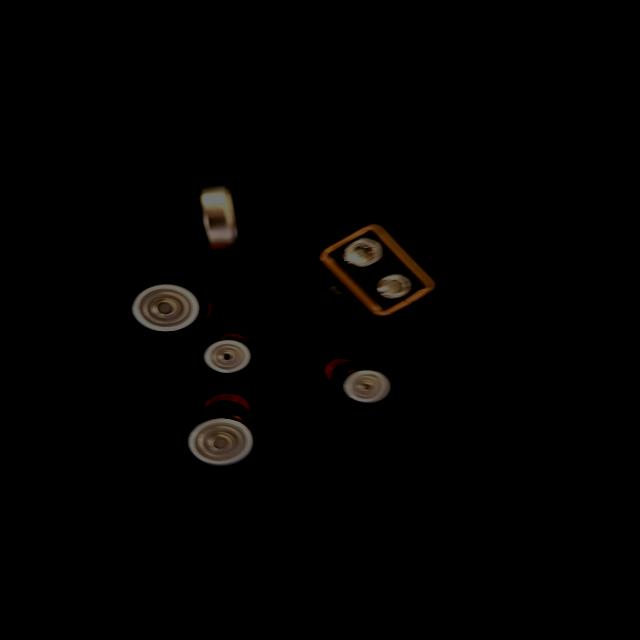9V: (205, 324, 337, 416)
AA: (388, 174, 453, 247), (428, 308, 510, 356)
AAA: (250, 236, 318, 282), (390, 266, 438, 306)
COIN: (402, 390, 441, 456)
